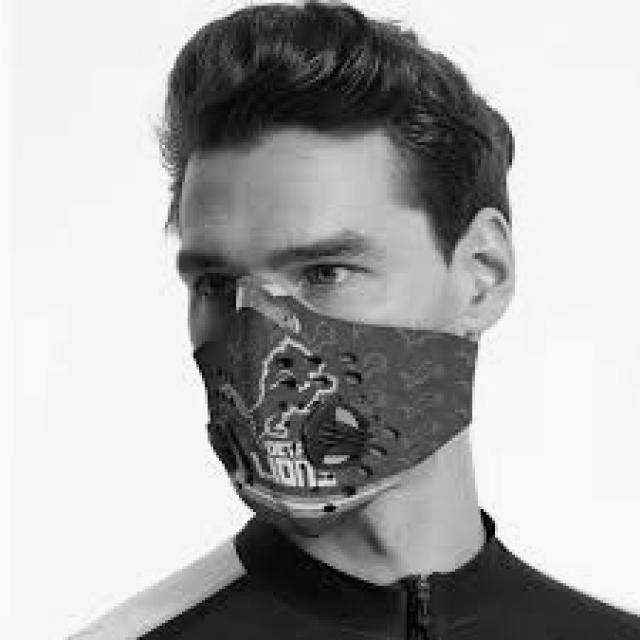fake: (177, 289, 483, 579)
real: (176, 130, 456, 550)
